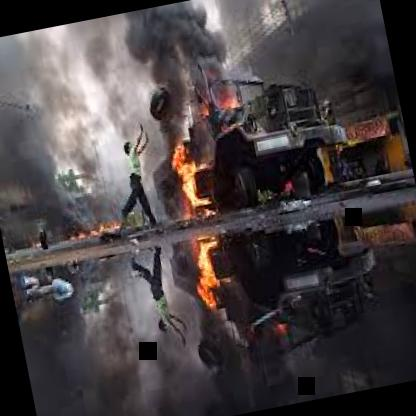fire: (160, 110, 232, 210)
